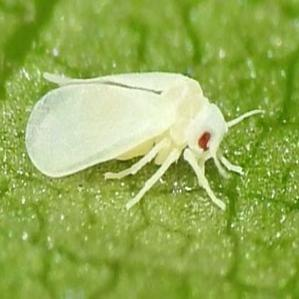Silverleaf whitefly: (15, 56, 262, 221)
